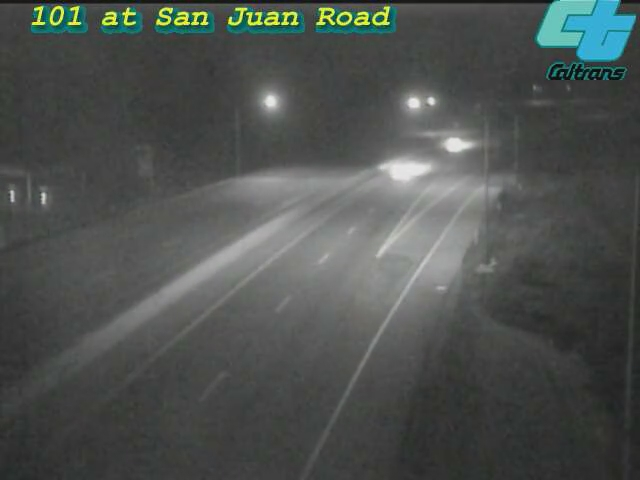vehicle: (359, 134, 439, 214), (427, 120, 477, 170)
